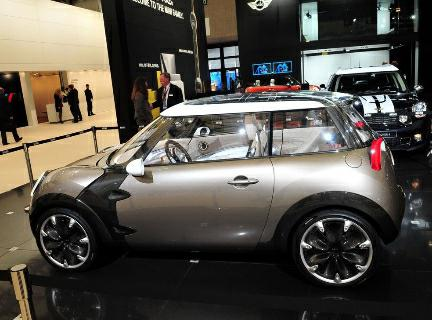MINI-ROCKETMAN: (29, 89, 415, 292), (320, 66, 432, 161)
